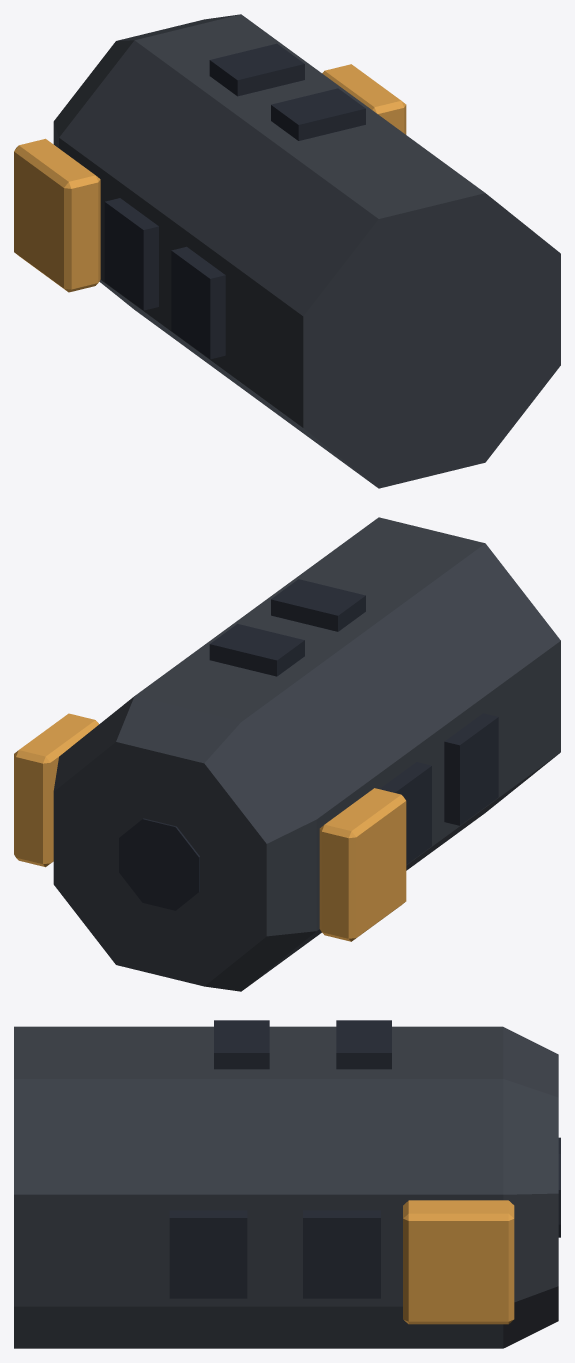
The model's file is comp.glb.
3 views of the same model, one above another, from view 1: azimuth 30°, elevation 25°; view 2: azimuth 150°, elevation 25°; view 3: azimuth 270°, elevation 25° (orthographic).
Visible parts, largest first — view 1: comp_body, comp_ports, comp_fins; view 2: comp_body, comp_ports, comp_fins; view 3: comp_body, comp_ports, comp_fins.
Part boxes in pixels (x1,y1,x2,y2): comp_body: [53, 14, 560, 488]; comp_ports: [104, 43, 365, 359]; comp_fins: [14, 64, 406, 292]; comp_body: [53, 517, 560, 991]; comp_ports: [119, 579, 498, 910]; comp_fins: [14, 713, 406, 941]; comp_body: [14, 1026, 558, 1348]; comp_ports: [169, 1020, 560, 1298]; comp_fins: [403, 1200, 514, 1324].
Bounding box in the file's own units: 0.0356 × 0.0284 × 0.0492.
